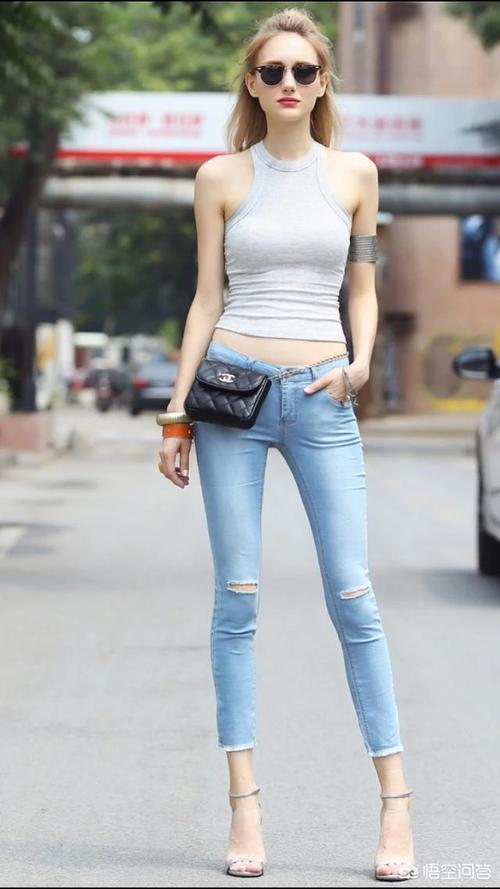up: (152, 11, 428, 877)
